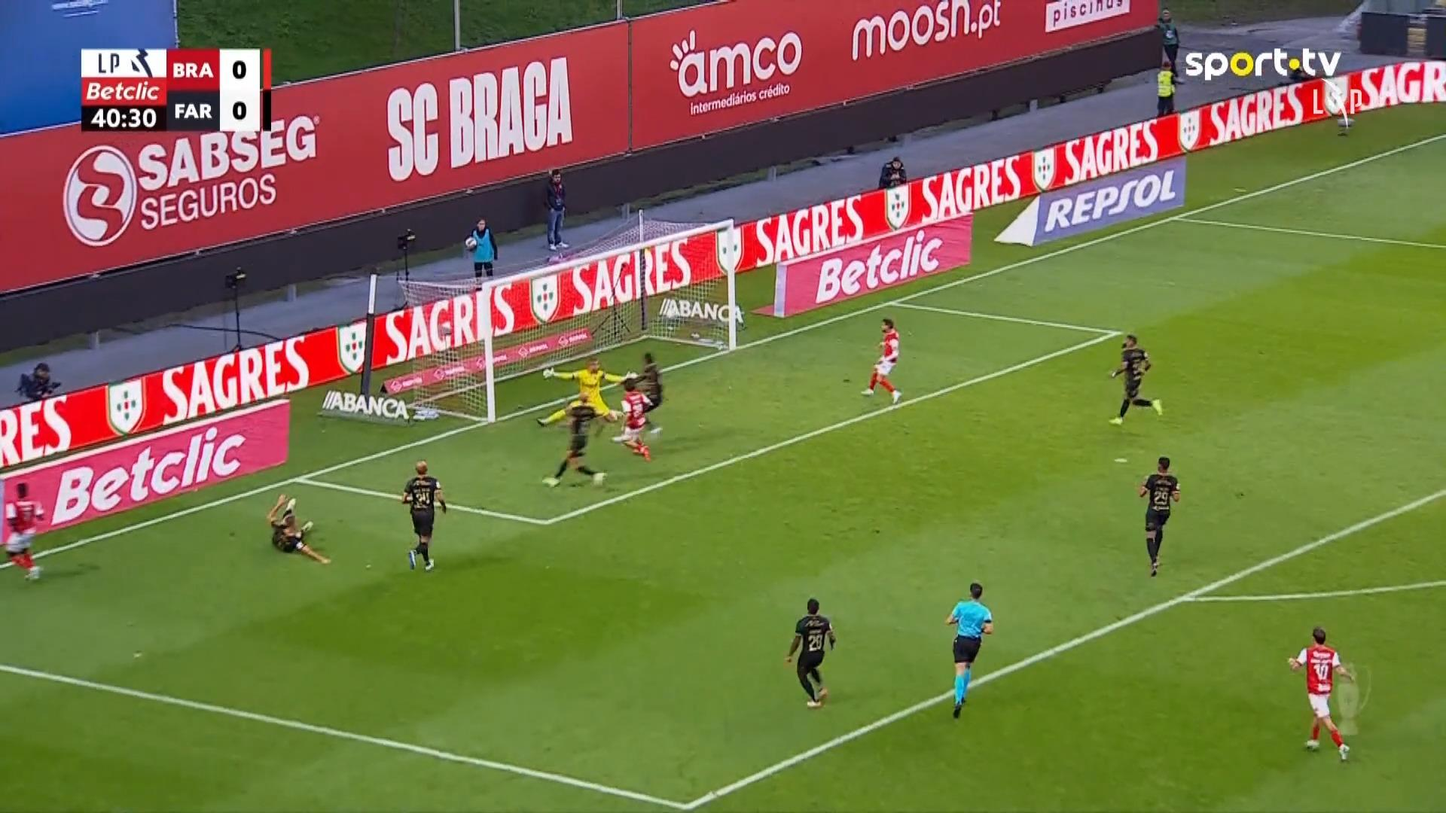ball: (593, 471, 606, 486)
goalkeeper: (541, 357, 637, 422)
player: (1286, 626, 1356, 762), (538, 391, 608, 488), (783, 597, 836, 708), (400, 459, 447, 571), (1137, 455, 1180, 577), (1107, 333, 1164, 425), (266, 492, 331, 565), (3, 481, 45, 580), (859, 317, 902, 405), (611, 379, 657, 461), (630, 351, 664, 434)
referee: (944, 581, 993, 718)
